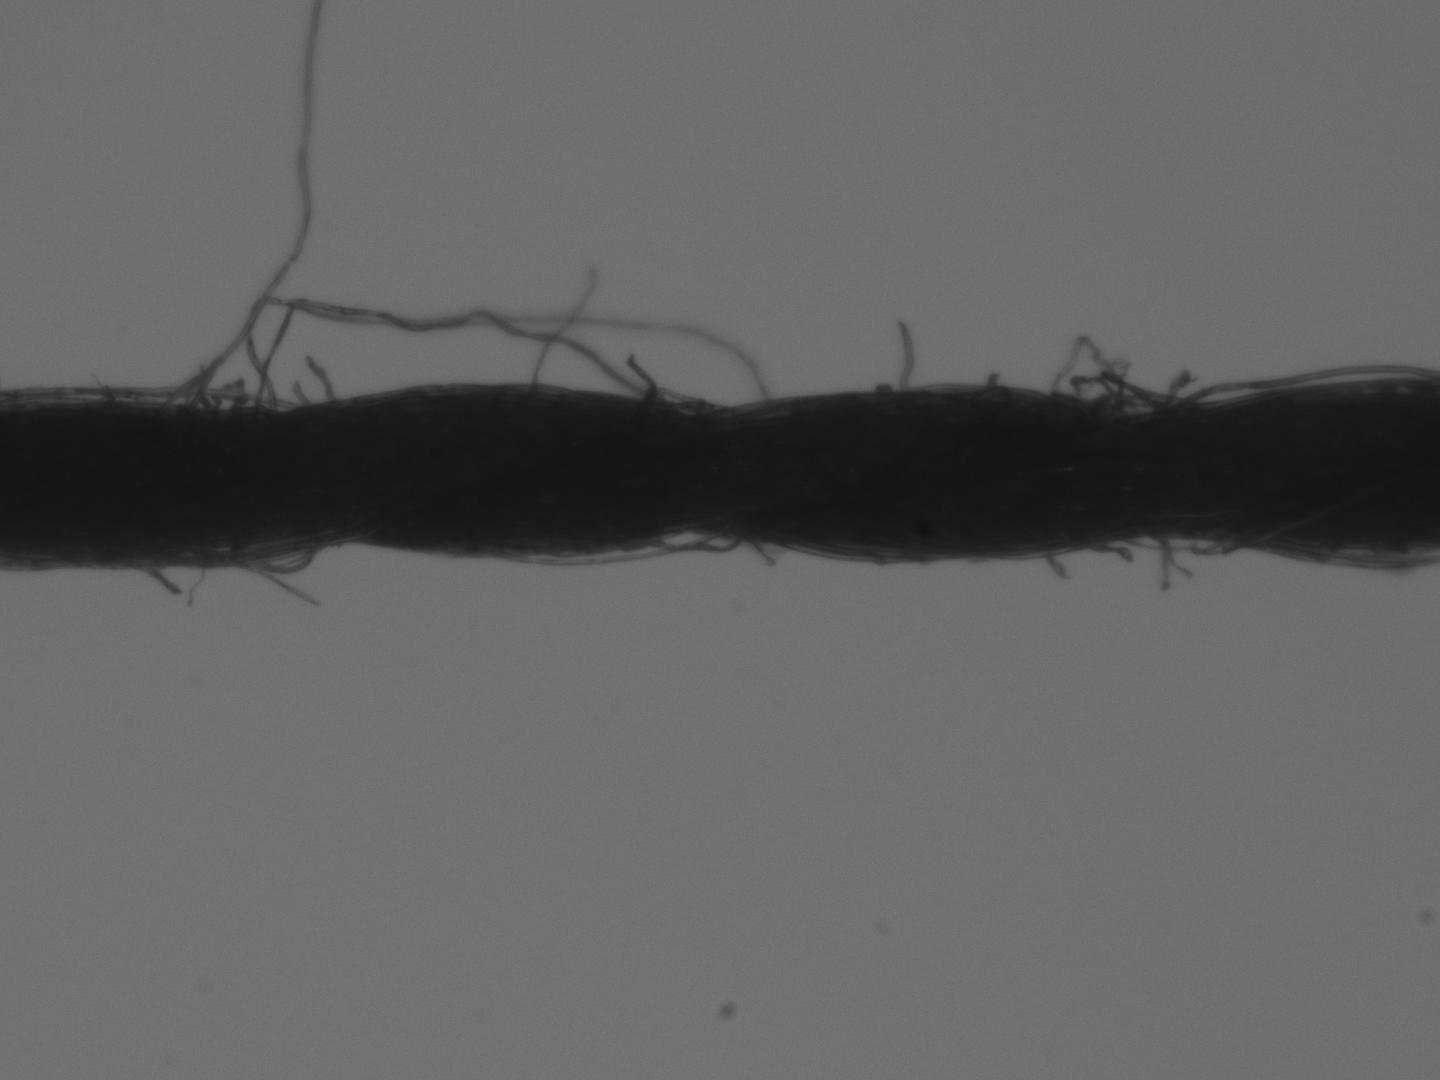loop_fiber: (244, 296, 728, 424), (1154, 360, 1430, 423), (473, 518, 754, 572), (160, 530, 324, 580), (1044, 327, 1134, 417), (1112, 532, 1246, 557)
protruding_fiber: (149, 3, 328, 416), (528, 264, 594, 387), (893, 317, 913, 395), (1040, 550, 1071, 584)
